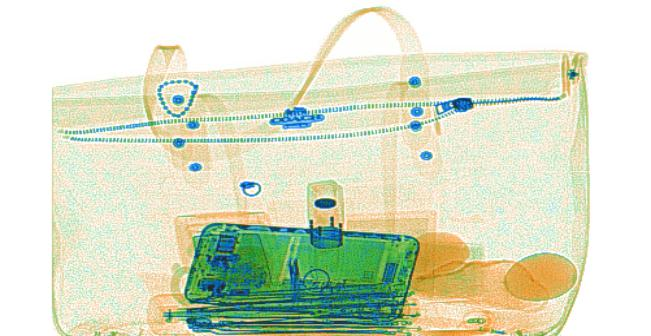plasticBottleWithaNozzle: (409, 298, 503, 333)
